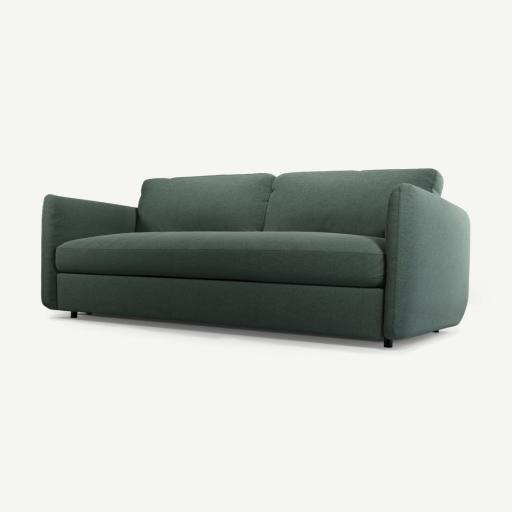back_cushion: (136, 169, 442, 236)
base: (58, 274, 383, 339)
left_arm: (383, 184, 470, 339)
legs: (0, 0, 511, 512), (384, 337, 392, 347), (70, 312, 77, 318), (86, 313, 92, 314)
right_arm: (42, 194, 135, 309)
seat_cushion: (53, 232, 385, 288)
